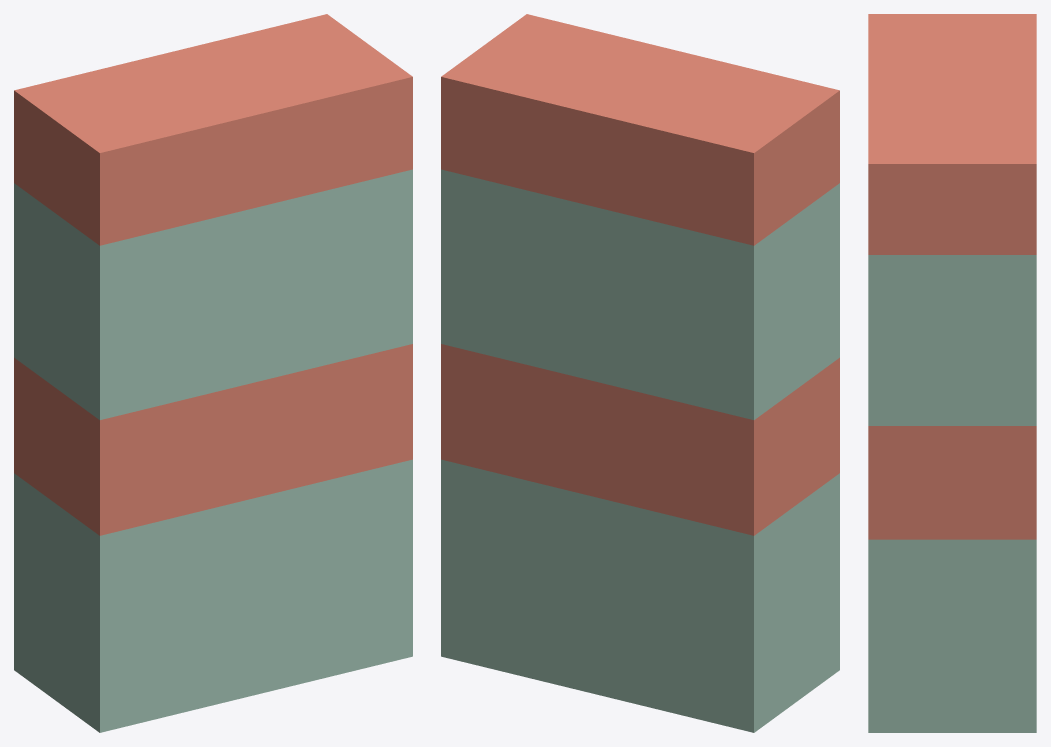
The model's file is Ürün12.fbx.
3 renders of one model, left to right at view 1: azimuth 30°, elevation 25°; view 2: azimuth 150°, elevation 25°; view 3: azimuth 270°, elevation 25°, orthographic.
Visible parts, largest first — view 1: pCube77; view 2: pCube77; view 3: pCube77.
Part boxes in pixels (x1,y1,x2,y2): pCube77: [14, 14, 412, 732]; pCube77: [441, 14, 839, 732]; pCube77: [868, 14, 1036, 732].
Bounding box in the file's own units: 23.51 × 41.6 × 11.16.
